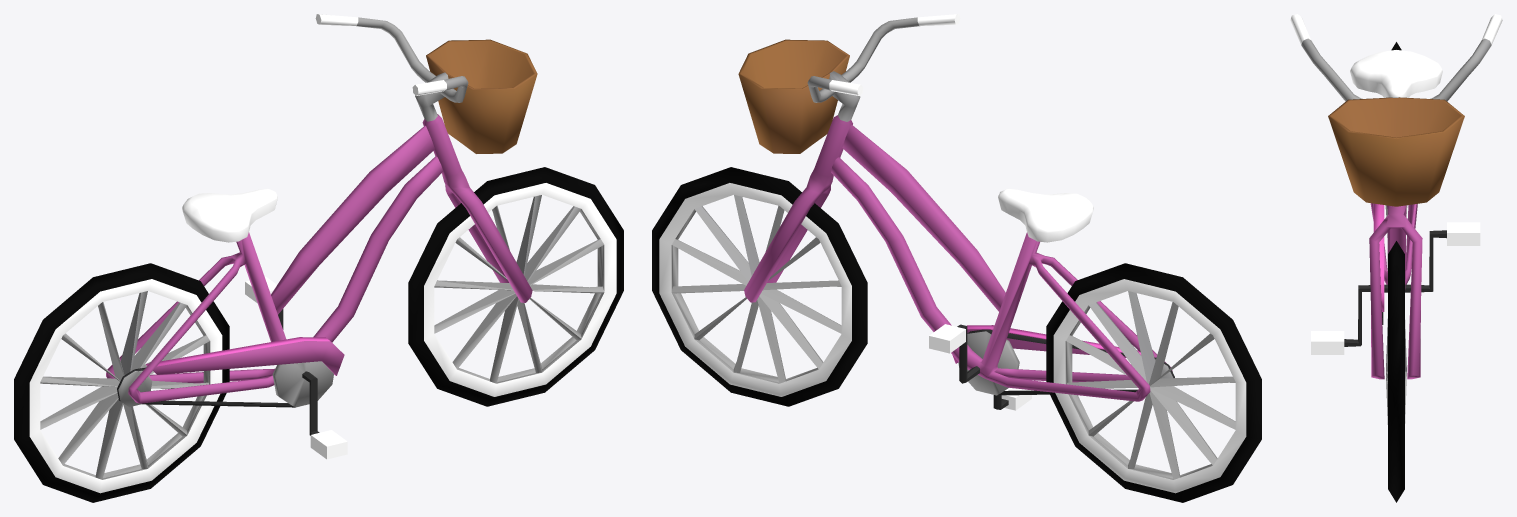
Rendered from BicycleBeachCruiserBasketPink.glb.
3 views of the same model, side by side, from view 1: azimuth 30°, elevation 25°; view 2: azimuth 150°, elevation 25°; view 3: azimuth 270°, elevation 25° (orthographic). The views are drawn at different scales.
Visible parts, largest first — view 1: BicycleBeachCruiserBasketPink; view 2: BicycleBeachCruiserBasketPink; view 3: BicycleBeachCruiserBasketPink.
Part boxes in pixels (x1,y1,x2,y2): BicycleBeachCruiserBasketPink: [14, 14, 623, 502]; BicycleBeachCruiserBasketPink: [652, 14, 1261, 502]; BicycleBeachCruiserBasketPink: [1290, 14, 1502, 502].
Size of what is drawn, in the model's own units: 2.47 by 1.49 by 0.7197.
Materials: 1 (1 with a texture image).
